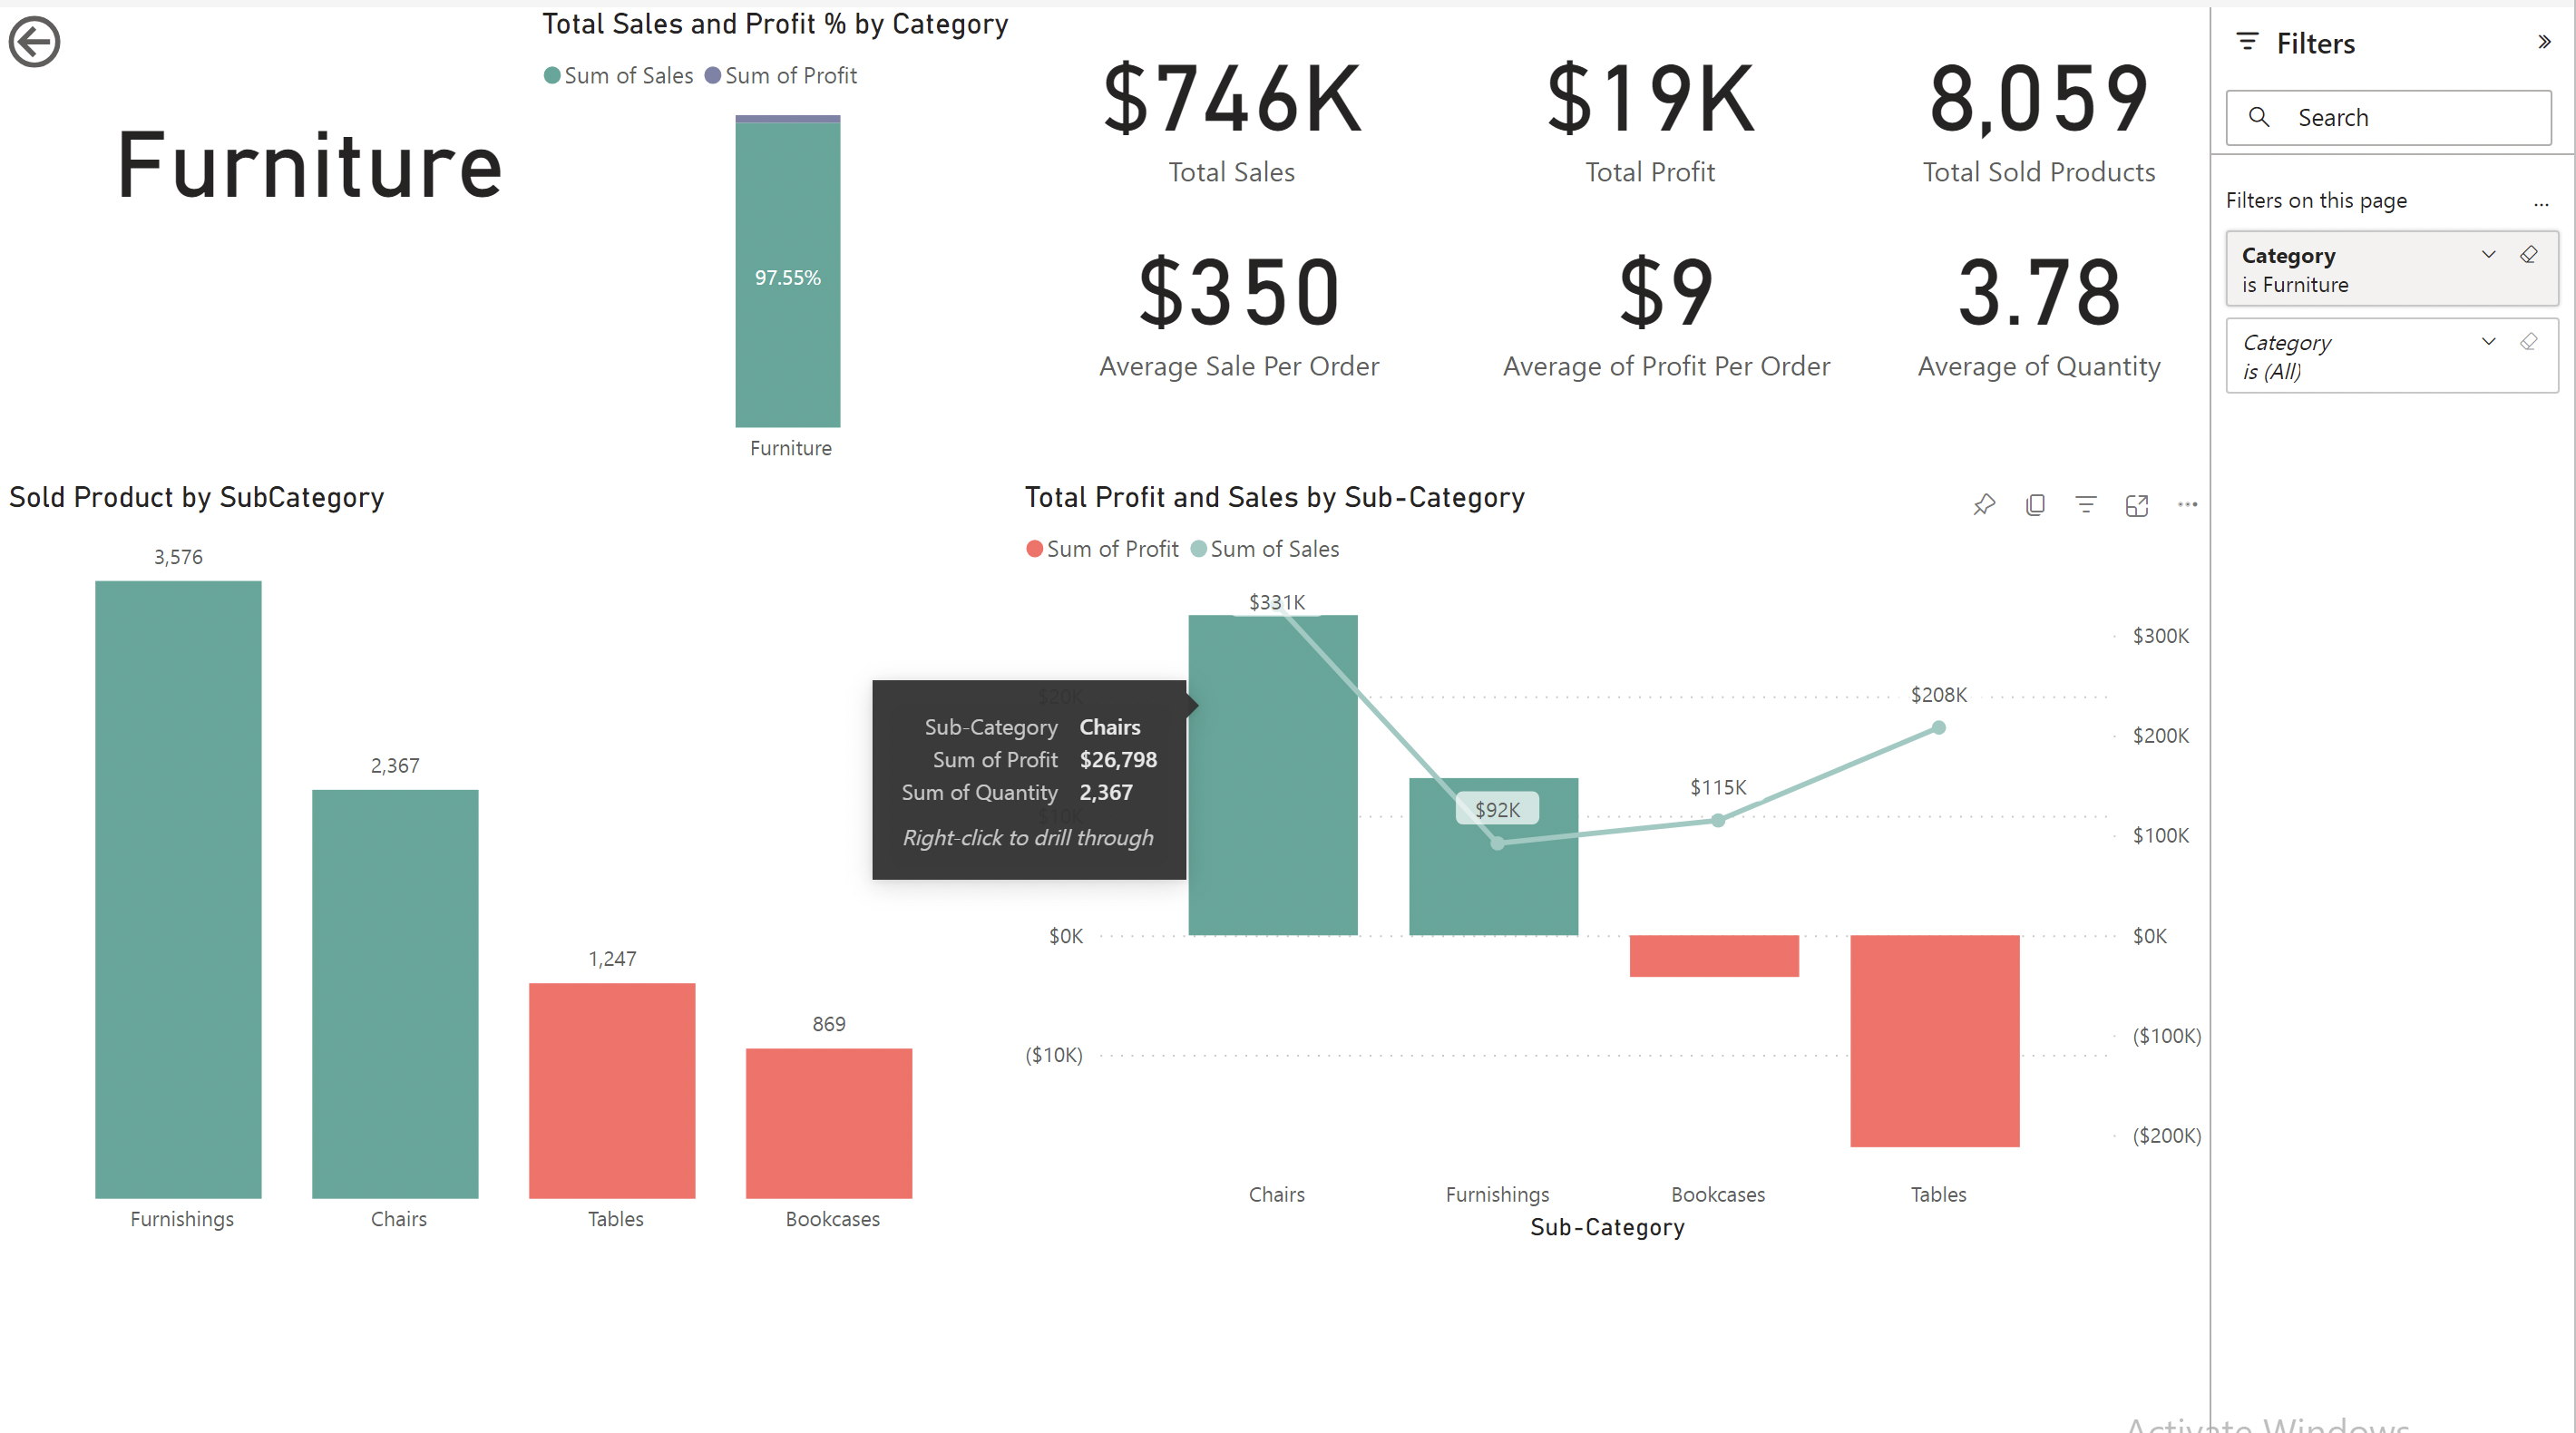

The page's visual inventory and layout, read from the dashboard file:
{"tool":"powerbi","page":{"name":"Category Insights","canvas":[1280,720],"ordinal":5},"visuals":[{"type":"card","title":"Sold Products by Category","fields":{"Values":["Min(CategoryDim.Category)"]},"box":[50.3,0,258.3,167.8],"z":0},{"type":"hundredPercentStackedColumnChart","title":"Total Sales and Profit % by Category","fields":{"Category":["CategoryDim.Category"],"Y":["Sum(SalesFact.Sales)","Sum(SalesFact.Profit)"]},"box":[308.7,0,298.6,273.4],"z":1000},{"type":"lineClusteredColumnComboChart","title":"Sold Product by SubCategory","fields":{"Category":["CategoryDim.Sub-Category"],"Y":["Sum(SalesFact.Quantity)"]},"box":[0,274,588,446],"z":2000},{"type":"lineClusteredColumnComboChart","title":"Total Profit and Sales by Sub-Category","fields":{"Category":["CategoryDim.Sub-Category"],"Y2":["Sum(SalesFact.Sales)"],"Y":["Sum(SalesFact.Profit)"]},"box":[588,274,693,445],"z":3000},{"type":"card","fields":{"Values":["Sum(SalesFact.Sales)"]},"box":[597.9,0,231.4,112.2],"z":4000},{"type":"card","fields":{"Values":["Sum(SalesFact.Profit)"]},"box":[828,0,256,112],"z":5000},{"type":"card","fields":{"Values":["Sum(SalesFact.Quantity)"]},"box":[1084,0,196,112],"z":6000},{"type":"card","fields":{"Values":["Avg(SalesFact.Sales)"]},"box":[598,112,240,112],"z":7000},{"type":"card","fields":{"Values":["Avg(SalesFact.Profit)"]},"box":[838,112,256,112],"z":8000},{"type":"card","fields":{"Values":["Avg(SalesFact.Quantity)"]},"box":[1084,112,196,112],"z":9000},{"type":"actionButton","box":[0,0,100,40],"z":10000}]}

Visuals, with their boxes on the page's 1280x720 design canvas (x1, y1, x2, y2). These are canvas units, not pixel positions in the 2576x1433 screenshot, which may show the page scaled, cropped or inside an application window:
"Sold Products by Category" card: 50/0/309/168
"Total Sales and Profit % by Category" hundredPercentStackedColumnChart: 309/0/607/273
"Sold Product by SubCategory" lineClusteredColumnComboChart: 0/274/588/720
"Total Profit and Sales by Sub-Category" lineClusteredColumnComboChart: 588/274/1281/719
card - Sum(SalesFact.Sales): 598/0/829/112
card - Sum(SalesFact.Profit): 828/0/1084/112
card - Sum(SalesFact.Quantity): 1084/0/1280/112
card - Avg(SalesFact.Sales): 598/112/838/224
card - Avg(SalesFact.Profit): 838/112/1094/224
card - Avg(SalesFact.Quantity): 1084/112/1280/224
actionButton: 0/0/100/40
